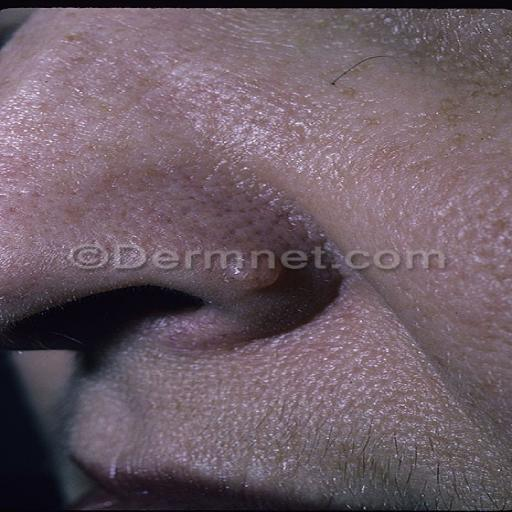Skin_Lesion: (203, 228, 293, 294)
